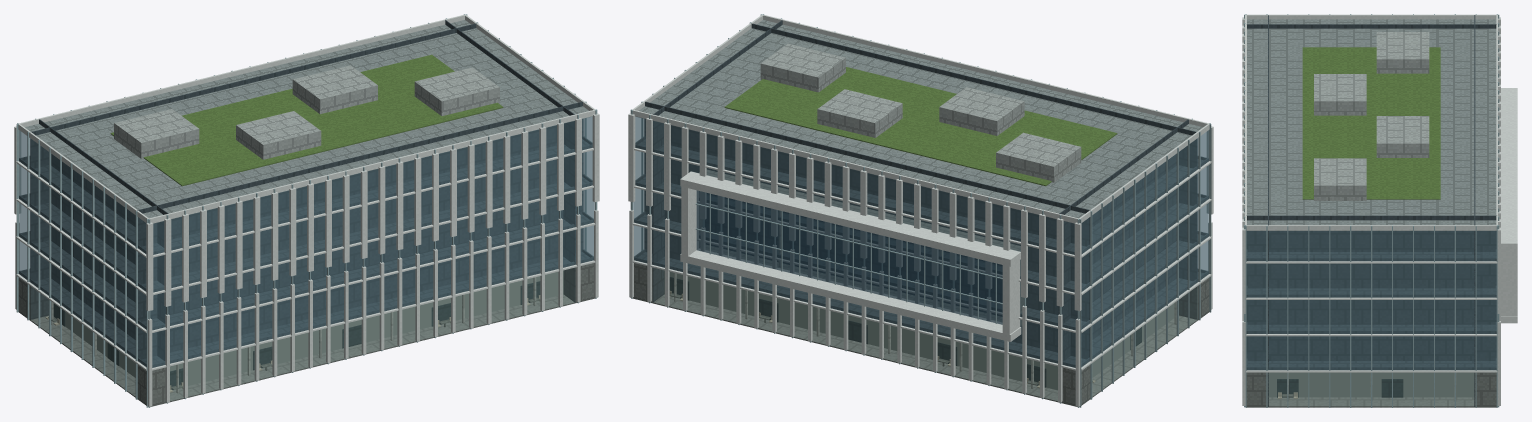
3 renders of one model, left to right at view 1: azimuth 30°, elevation 25°; view 2: azimuth 150°, elevation 25°; view 3: azimuth 270°, elevation 25°, orthographic. The views are drawn at different scales.
Visible parts, largest first — view 1: Glass_plane__Glazing_office (×4), Low_rise_core, 03_Fins_and_Floating_Frame__Silver facade fins, Roof, Glazing_and_grid__Opaque structural core (×4), Scenic_facade_recess__Opaque structural core (×2), Roof_garden, Glass_plane__Glazing_clear (×2), 07_Roof__Rooftop plant provisional, Glazing_and_grid__Mullion aluminium (×2), 07_Roof__Silver facade fins, Scenic_depth_PROVISIONAL__Opaque_window_reveal (×3) (+4 smaller); view 2: 03_Fins_and_Floating_Frame__Silver facade fins, Glass_plane__Glazing_office (×4), Roof, Glazing_and_grid__Opaque structural core (×4), Reflective_feature_glass, Roof_garden, Scenic_facade_recess__Opaque structural core (×2), Glass_plane__Glazing_clear (×2), Low_rise_core, Recess_back (×3), 07_Roof__Rooftop plant provisional, Scenic_depth_PROVISIONAL__Opaque_window_reveal (×4) (+6 smaller); view 3: Glass_plane__Glazing_office, Roof, Low_rise_core, Roof_garden, Glazing_and_grid__Opaque structural core (×4), 07_Roof__Rooftop plant provisional, Scenic_facade_recess__Opaque structural core (×3), 03_Fins_and_Floating_Frame__Silver facade fins, Glass_plane__Glazing_clear, Recess_back, Glazing_and_grid__Mullion aluminium (×2), 07_Roof__Silver facade fins (+3 smaller).
Part boxes in pixels (x1,y1,x2,y2): Glass_plane__Glazing_office (×4): (19, 116, 594, 367); Low_rise_core: (51, 125, 563, 355); 03_Fins_and_Floating_Frame__Silver facade fins: (14, 113, 599, 406); Roof: (25, 20, 591, 223); Glazing_and_grid__Opaque structural core (×4): (19, 20, 593, 367); Scenic_facade_recess__Opaque structural core (×2): (20, 139, 592, 367); Roof_garden: (110, 54, 503, 186); Glass_plane__Glazing_clear (×2): (31, 268, 574, 400); 07_Roof__Rooftop plant provisional: (114, 65, 499, 159); Glazing_and_grid__Mullion aluminium (×2): (16, 110, 596, 407); 07_Roof__Silver facade fins: (18, 14, 595, 223); Scenic_depth_PROVISIONAL__Opaque_window_reveal (×3): (30, 263, 594, 406); 03_Fins_and_Floating_Frame__Silver facade fins: (628, 113, 1213, 406); Glass_plane__Glazing_office (×4): (633, 116, 1208, 367); Roof: (636, 20, 1202, 223); Glazing_and_grid__Opaque structural core (×4): (634, 20, 1208, 367); Reflective_feature_glass: (696, 190, 1002, 324); Roof_garden: (724, 67, 1117, 186); Scenic_facade_recess__Opaque structural core (×2): (635, 139, 1207, 367); Glass_plane__Glazing_clear (×2): (653, 268, 1197, 400); Low_rise_core: (664, 125, 1176, 355); Recess_back (×3): (664, 193, 1174, 390); 07_Roof__Rooftop plant provisional: (760, 43, 1081, 182); Scenic_depth_PROVISIONAL__Opaque_window_reveal (×4): (633, 169, 1197, 406); Glass_plane__Glazing_office: (1247, 231, 1496, 369); Roof: (1247, 19, 1496, 230); Low_rise_core: (1269, 231, 1474, 360); Roof_garden: (1302, 47, 1440, 199); Glazing_and_grid__Opaque structural core (×4): (1246, 15, 1496, 406); 07_Roof__Rooftop plant provisional: (1314, 32, 1429, 200); Scenic_facade_recess__Opaque structural core (×3): (1247, 252, 1495, 370); 03_Fins_and_Floating_Frame__Silver facade fins: (1242, 17, 1517, 405); Glass_plane__Glazing_clear: (1269, 373, 1474, 405); Recess_back: (1269, 372, 1474, 397); Glazing_and_grid__Mullion aluminium (×2): (1245, 14, 1499, 407); 07_Roof__Silver facade fins: (1245, 14, 1497, 230).
Bounding box in the file's own units: 60.2 × 25.51 × 32.9.
40 materials, 29 textured.
